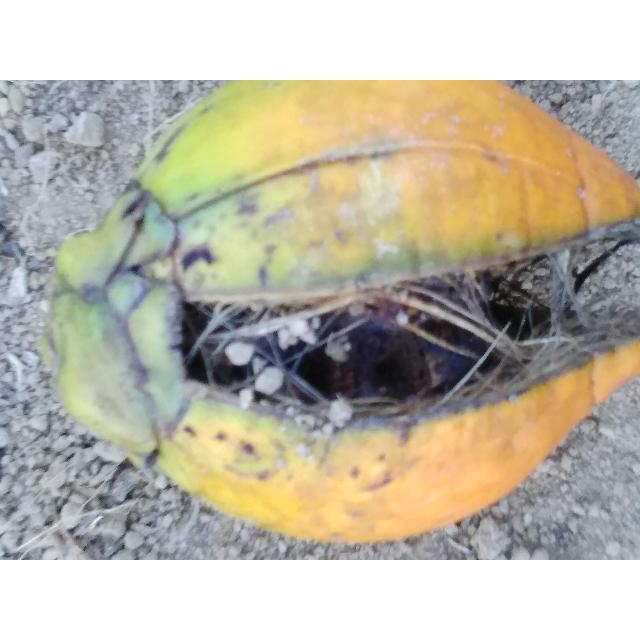damaged: (37, 80, 640, 546)
